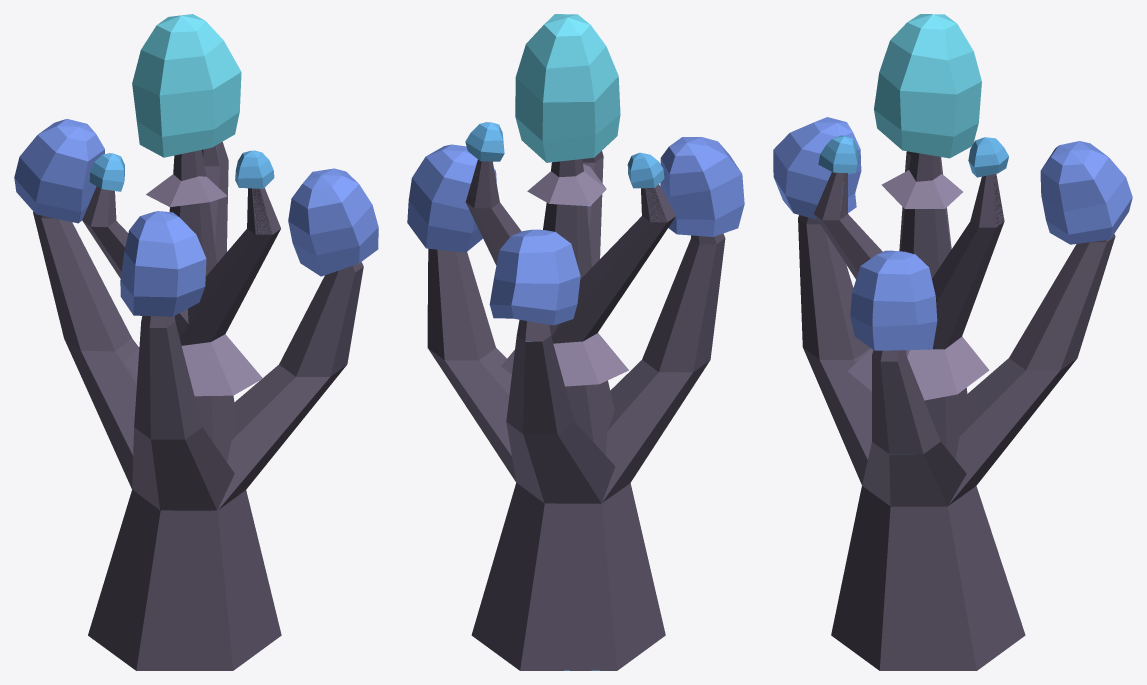
Rendered from alienMushroomTree01.gltf.
3 renders of one model, left to right at view 1: azimuth 30°, elevation 25°; view 2: azimuth 150°, elevation 25°; view 3: azimuth 270°, elevation 25°, orthographic.
Visible parts, largest first — view 1: Cone.008, Sphere.007, Sphere.003, Sphere.002, Sphere.001, Circle.001, Circle.003, Sphere.005, Sphere.006; view 2: Cone.008, Sphere.007, Sphere.001, Sphere.003, Sphere.002, Circle.001, Circle.003, Sphere.004, Sphere.006; view 3: Cone.008, Sphere.007, Sphere.002, Sphere.001, Sphere.003, Circle.001, Circle.003, Sphere.004, Sphere.005.
Part boxes in pixels (<box>): Cone.008: <box>33,142,363,670</box>; Sphere.007: <box>132,14,241,157</box>; Sphere.003: <box>120,211,206,316</box>; Sphere.002: <box>288,168,378,276</box>; Sphere.001: <box>14,119,104,223</box>; Circle.001: <box>124,334,262,396</box>; Circle.003: <box>146,174,227,206</box>; Sphere.005: <box>235,150,274,188</box>; Sphere.006: <box>89,153,124,191</box>; Cone.008: <box>427,151,725,670</box>; Sphere.007: <box>515,14,620,162</box>; Sphere.001: <box>489,229,580,325</box>; Sphere.003: <box>660,137,744,236</box>; Sphere.002: <box>407,144,496,252</box>; Circle.001: <box>501,333,628,386</box>; Circle.003: <box>527,164,606,206</box>; Sphere.004: <box>465,122,504,161</box>; Sphere.006: <box>627,152,664,188</box>; Cone.008: <box>798,151,1115,670</box>; Sphere.007: <box>874,14,981,158</box>; Sphere.002: <box>850,250,937,350</box>; Sphere.001: <box>1040,141,1132,244</box>; Sphere.003: <box>773,117,861,219</box>; Circle.001: <box>847,336,989,400</box>; Circle.003: <box>881,170,962,208</box>; Sphere.004: <box>968,137,1008,177</box>; Sphere.005: <box>818,135,858,173</box>.
Size of the model in its own units: 5.68 by 11.97 by 6.28.
1 material, 1 textured.
